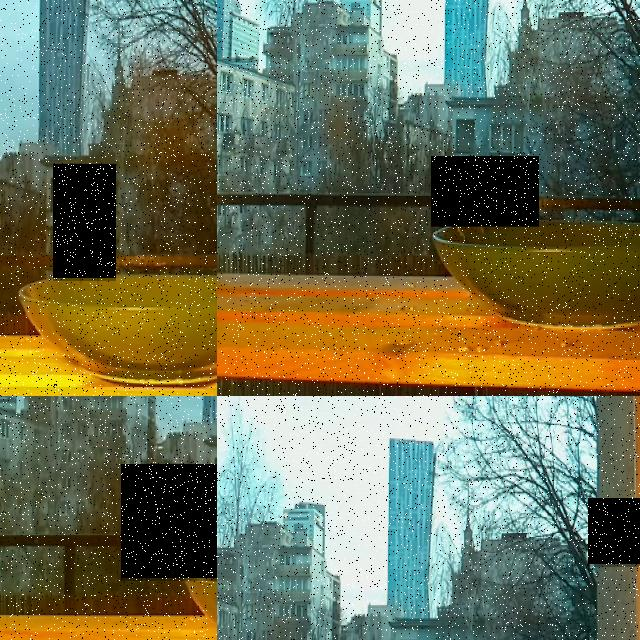Bogatka: (53, 164, 116, 280)
Modraszka: (121, 464, 217, 580), (431, 156, 539, 227), (588, 498, 640, 566)
